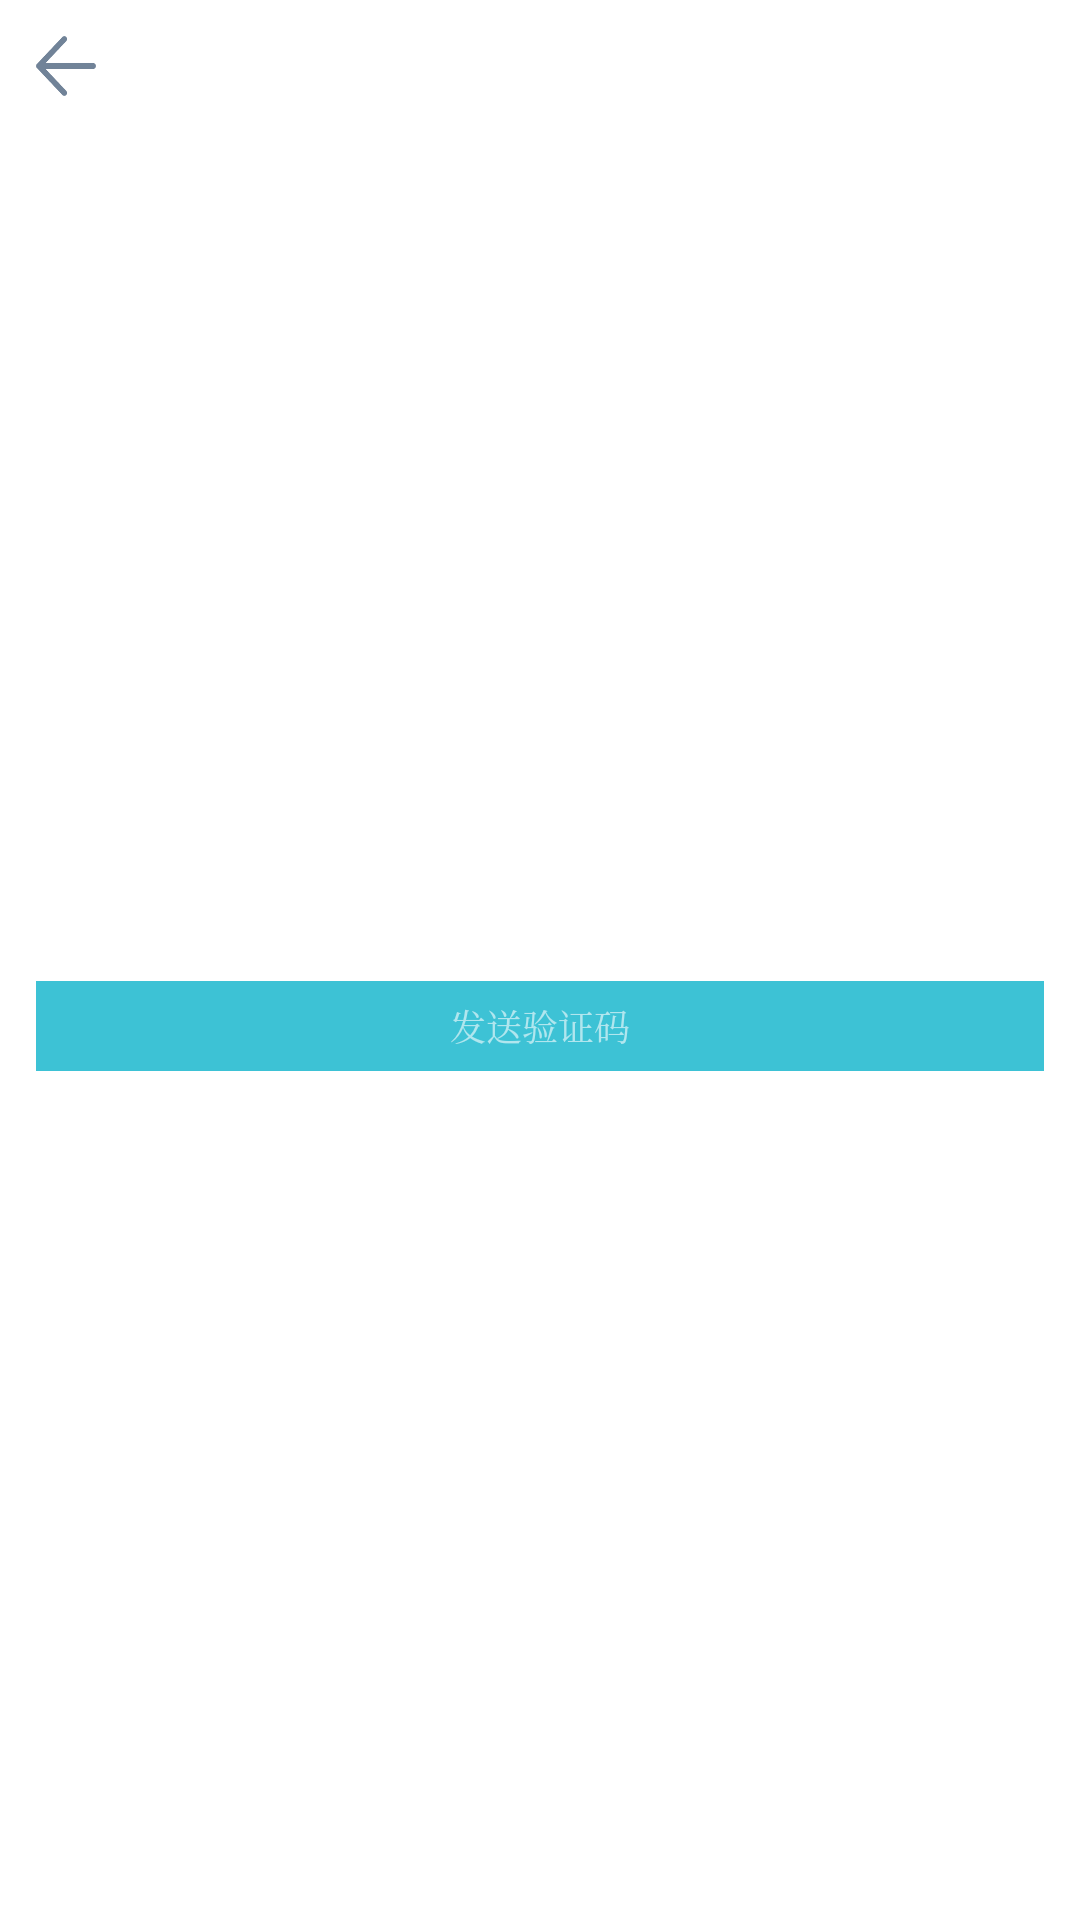

Icons on this 1080w x 1920h Android screen, each with its box as (x1, y1, x2, y2):
cblog back: (36, 36, 96, 96)
